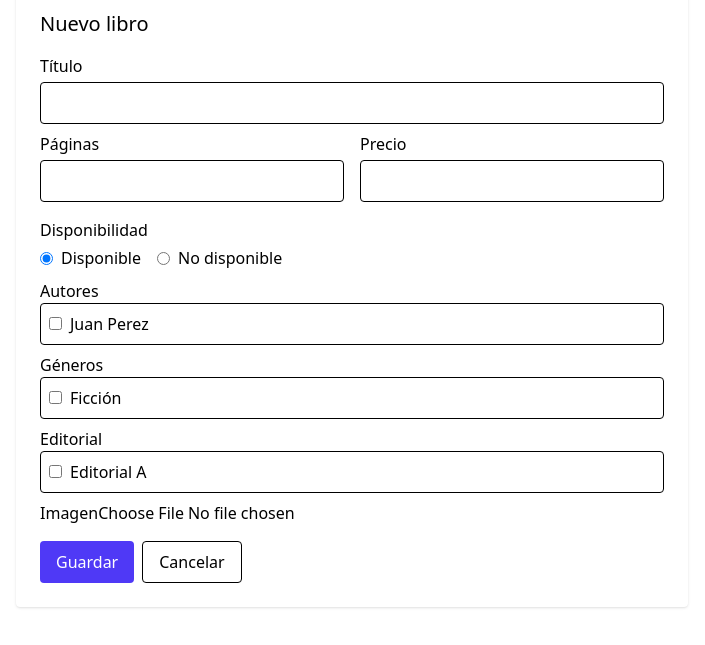
Scenario: BookForm › shows validation error when title is empty
This screenshot has width=705, height=645.
Expected: the text "Juan Perez" is shown, 70,312 -> 149,336
# Submit without filling title
Step 1. Click the button "Guardar" → (87, 562), box 40,540 -> 134,582
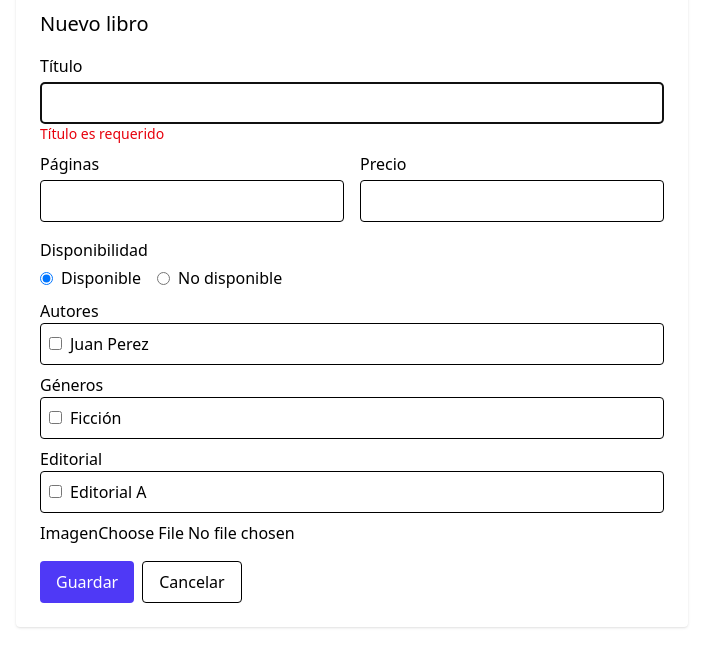
Now the text "Título es requerido" is shown, box 40,124 -> 164,143
